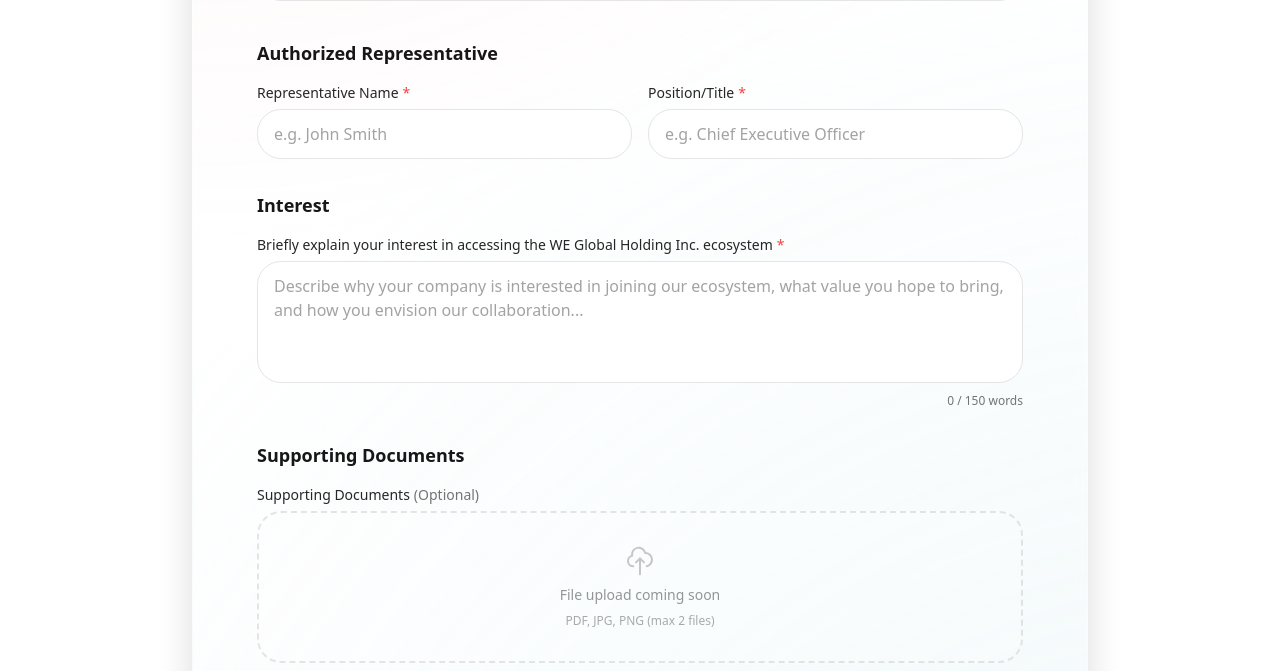
Test case: BusinessAccessRequestPage › updates word count when typing in interest explanation
The width and height of the screenshot is (1280, 671).
(page scrolled)
Step 1. Type "This is a test explanation" into the text box labelled "Briefly explain your interest" → [640, 322], box [257,261,1023,383]
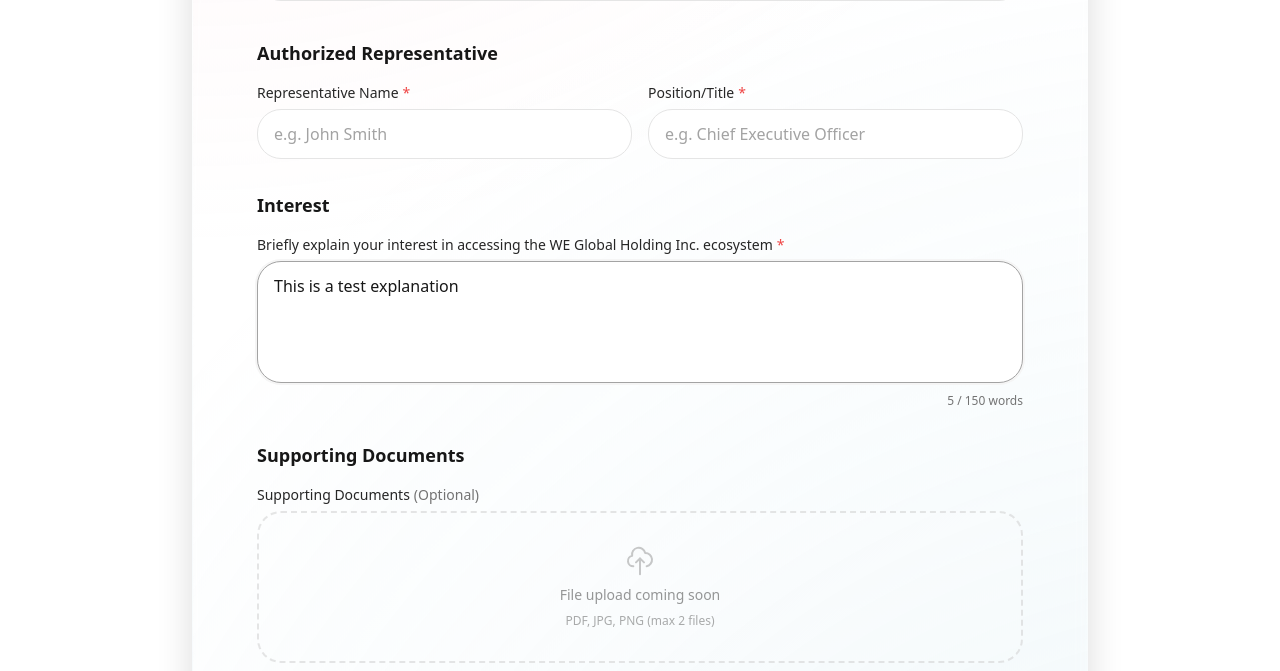
Check: the text "5 / 150 words" is shown, box [947,392,1023,409]
